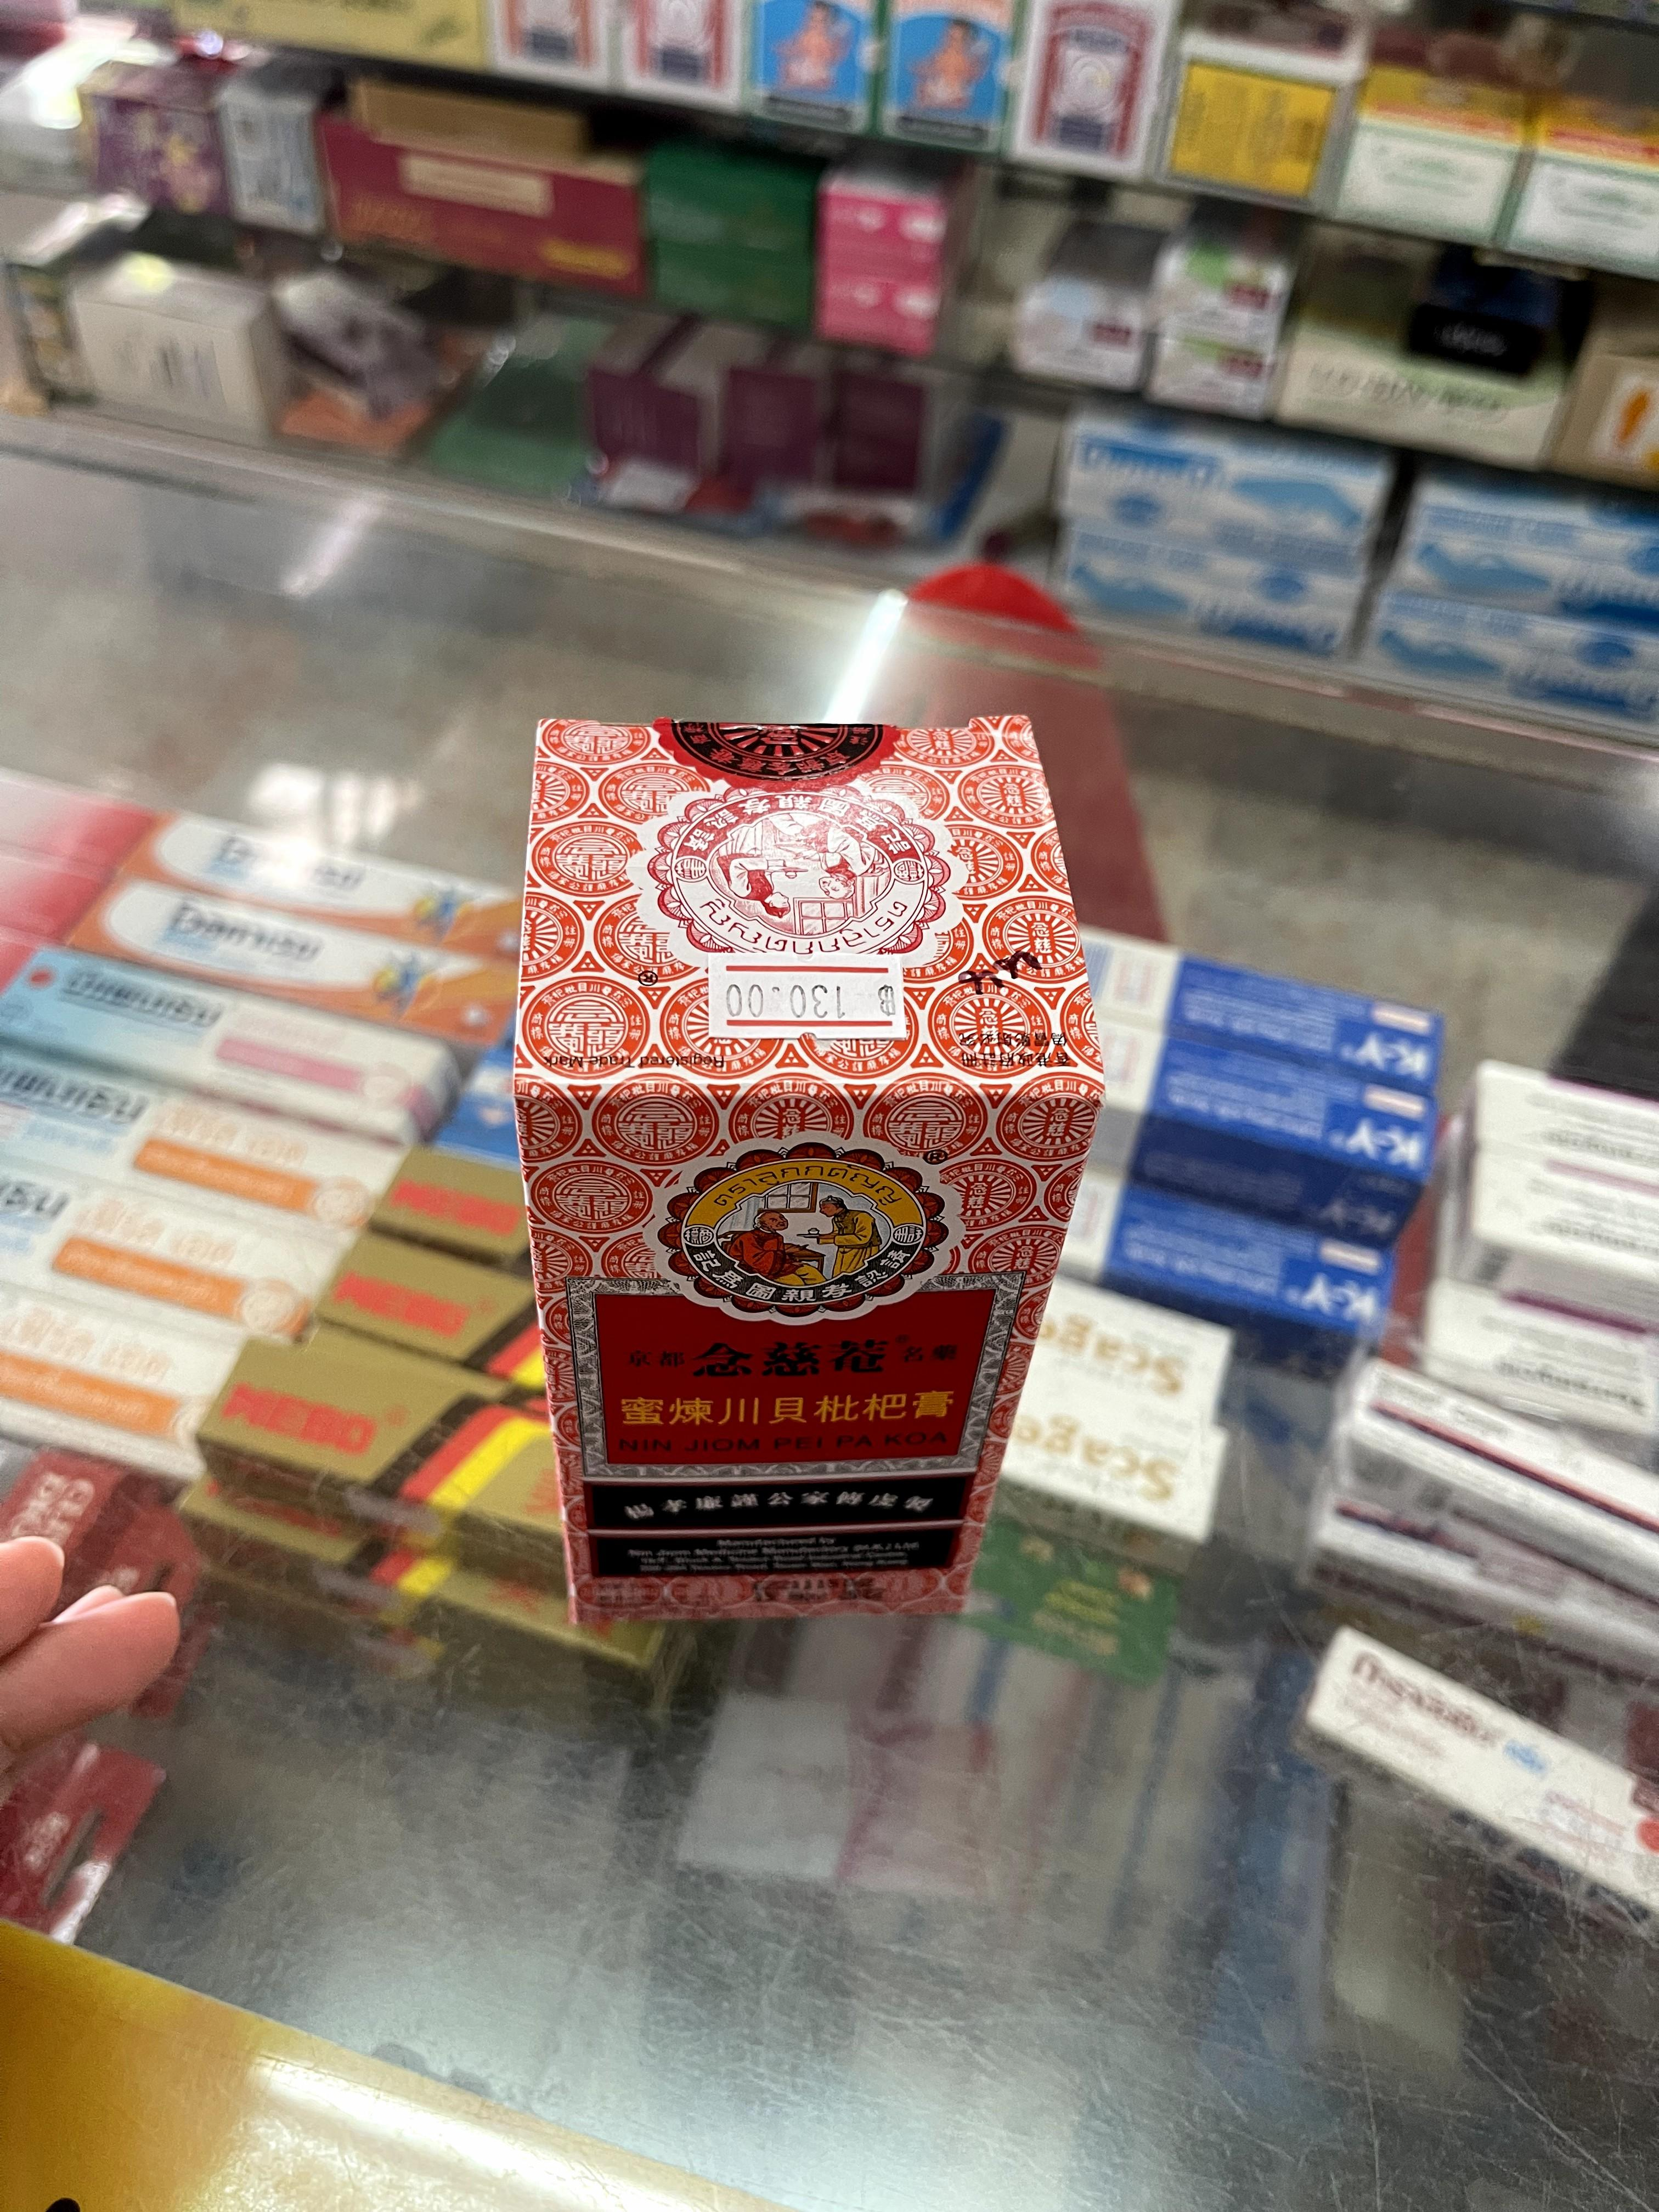Pei-Pa-Koa_Big: (526, 719, 1098, 1629)
